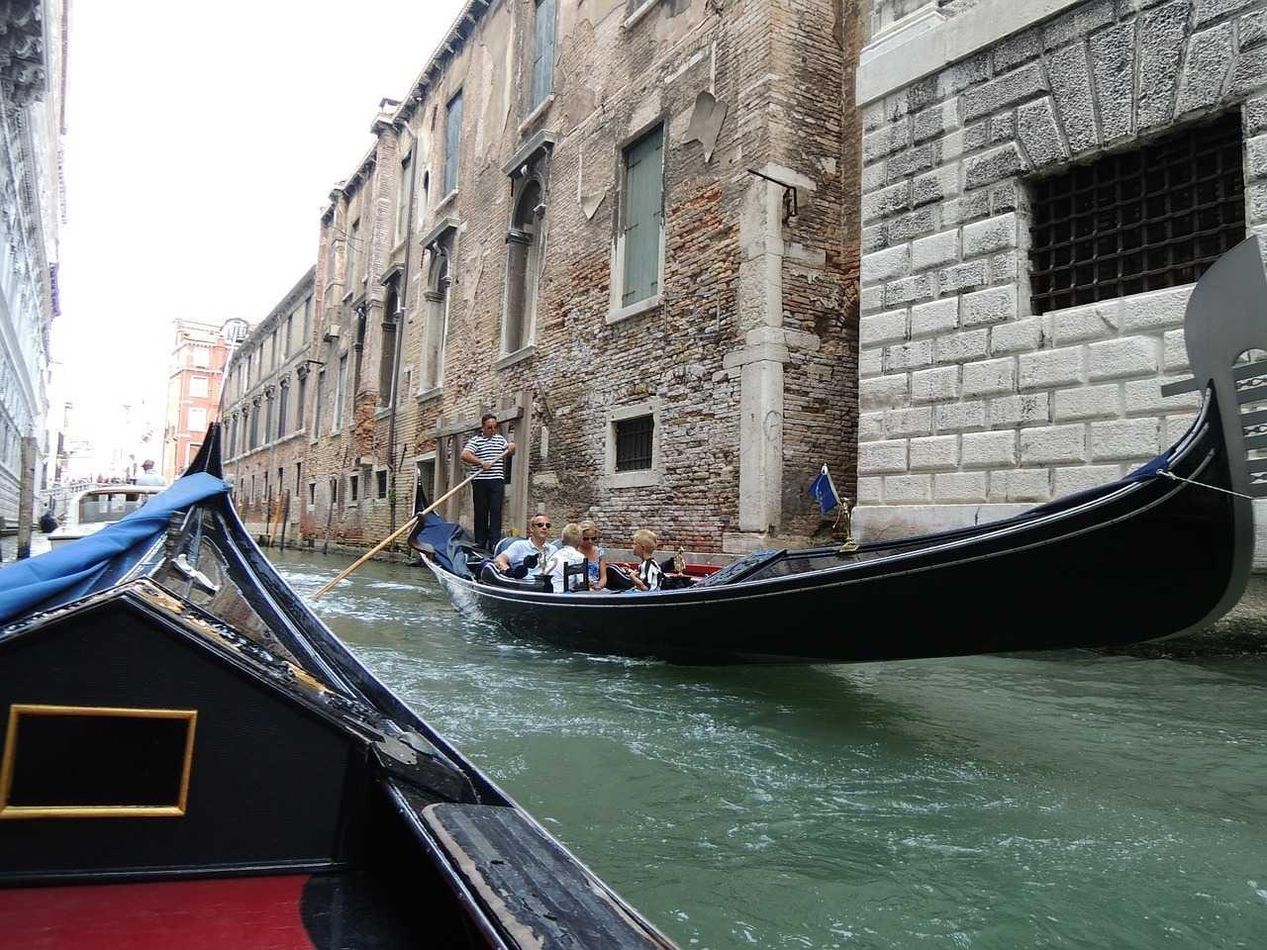kayak: (2, 429, 682, 947), (407, 280, 1260, 680), (30, 479, 168, 557)
